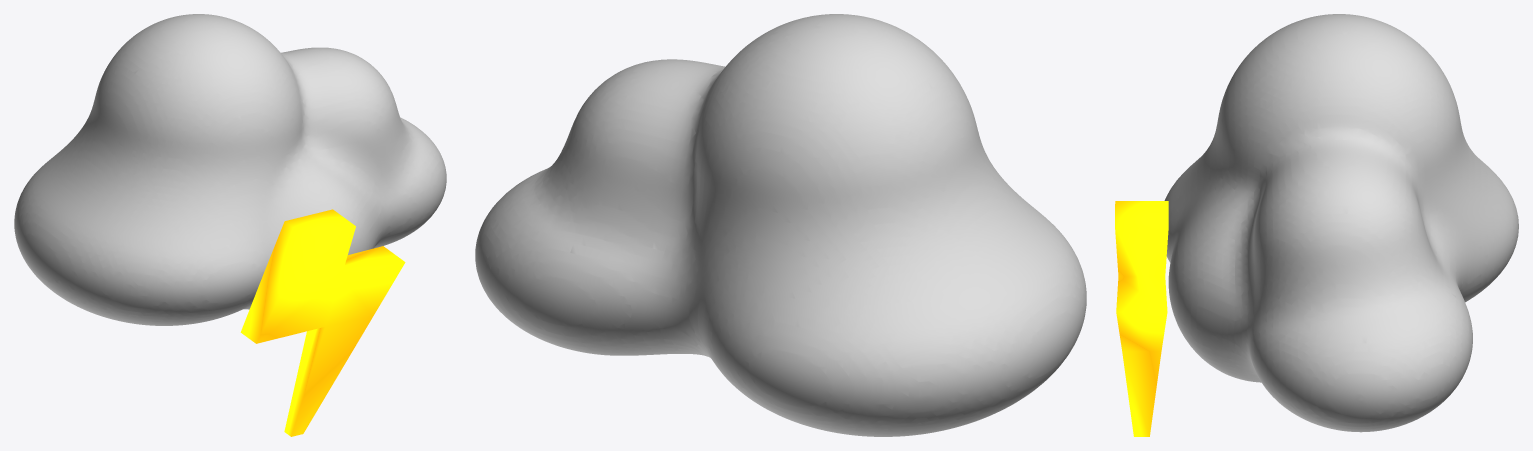
File: cloud.glb
3 views of the same model, side by side, from view 1: azimuth 30°, elevation 25°; view 2: azimuth 150°, elevation 25°; view 3: azimuth 270°, elevation 25° (orthographic). The views are drawn at different scales.
Parts seen in each view (by area): view 1: Mball.002, Plane.001; view 2: Mball.002; view 3: Mball.002, Plane.001.
Part boxes in pixels (x1=…): Mball.002: x1=14, y1=14, x2=446, y2=325; Plane.001: x1=240, y1=209, x2=405, y2=436; Mball.002: x1=475, y1=14, x2=1086, y2=436; Mball.002: x1=1164, y1=14, x2=1518, y2=432; Plane.001: x1=1115, y1=201, x2=1168, y2=436.
Bounding box in the file's own units: 4.29 × 3.52 × 3.2.
